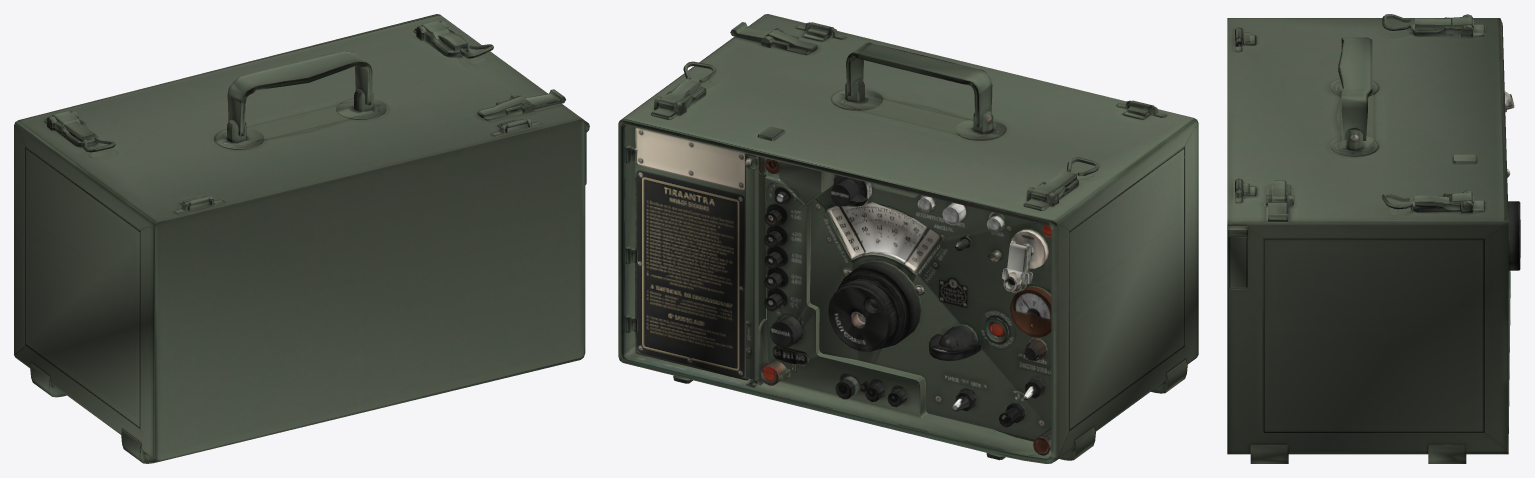
Rendered from OparetionRoom_AI_Prop.014.fbx.
The picture shows the model from 3 angles, left to right: view 1: azimuth 30°, elevation 25°; view 2: azimuth 150°, elevation 25°; view 3: azimuth 270°, elevation 25°; orthographic projection. The views are drawn at different scales.
Visible parts, largest first — view 1: OparetionRoom_AI_Prop.014; view 2: OparetionRoom_AI_Prop.014; view 3: OparetionRoom_AI_Prop.014.
Part boxes in pixels (x1,y1,x2,y2): OparetionRoom_AI_Prop.014: (14,14,589,463); OparetionRoom_AI_Prop.014: (618,14,1198,463); OparetionRoom_AI_Prop.014: (1227,14,1520,463).
Size of the model in its own units: 55.48 by 37.26 by 32.98.
